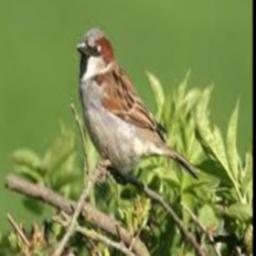Sparrow: (76, 28, 201, 182)
